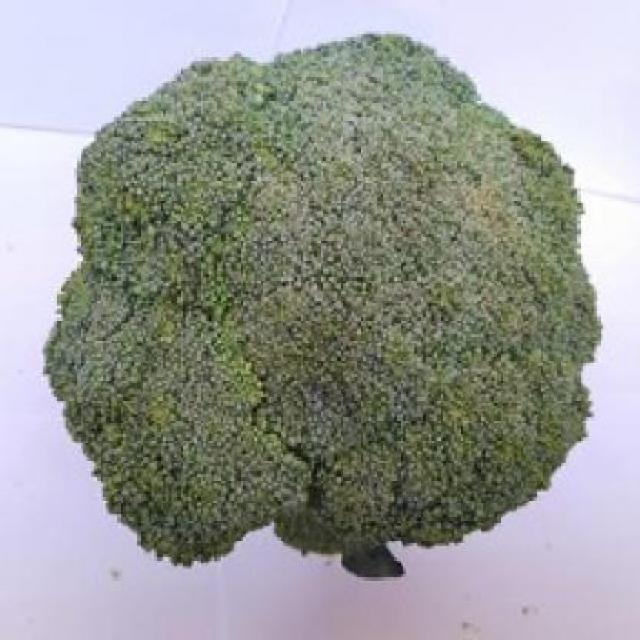broccoli: (49, 32, 583, 568)
